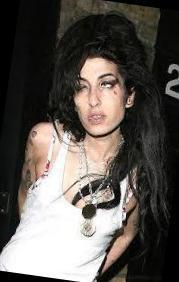Drunk: (73, 56, 125, 133)
